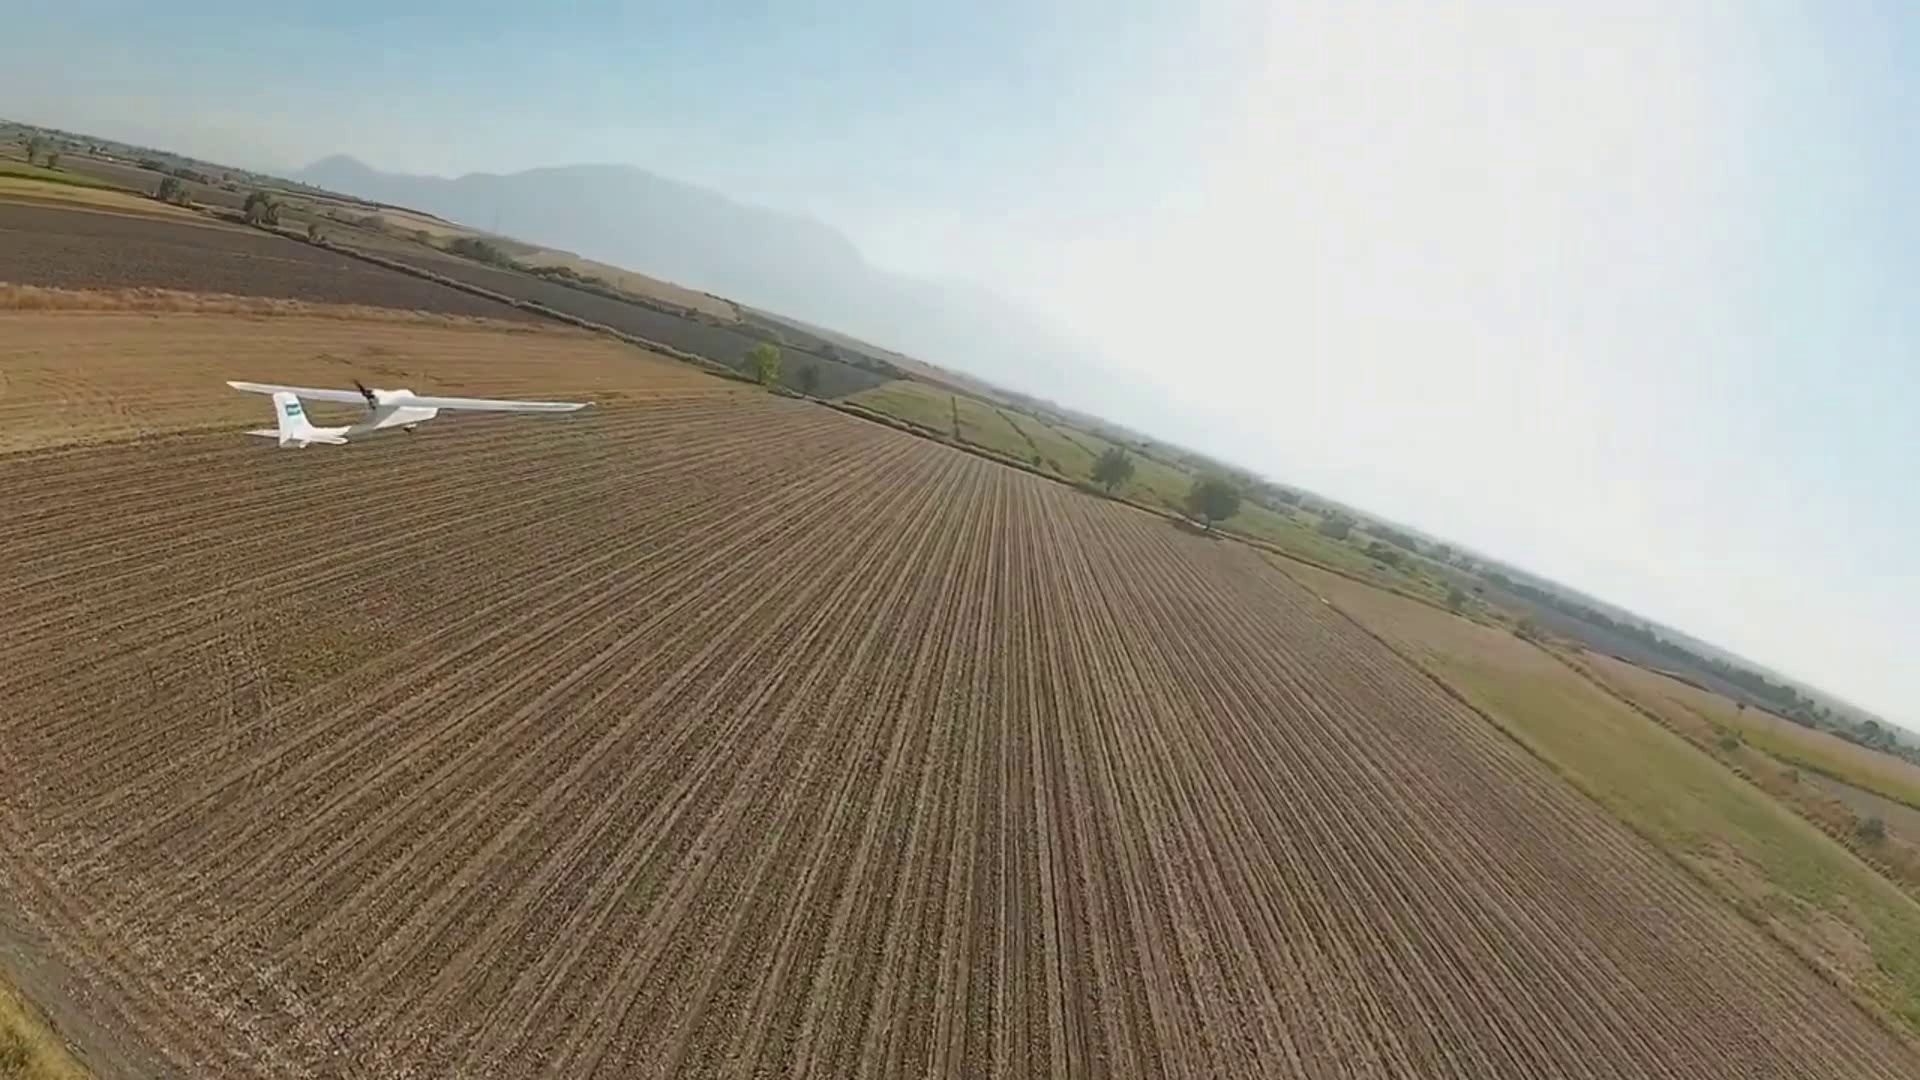airplane: (224, 375, 577, 448), (226, 376, 441, 448)
